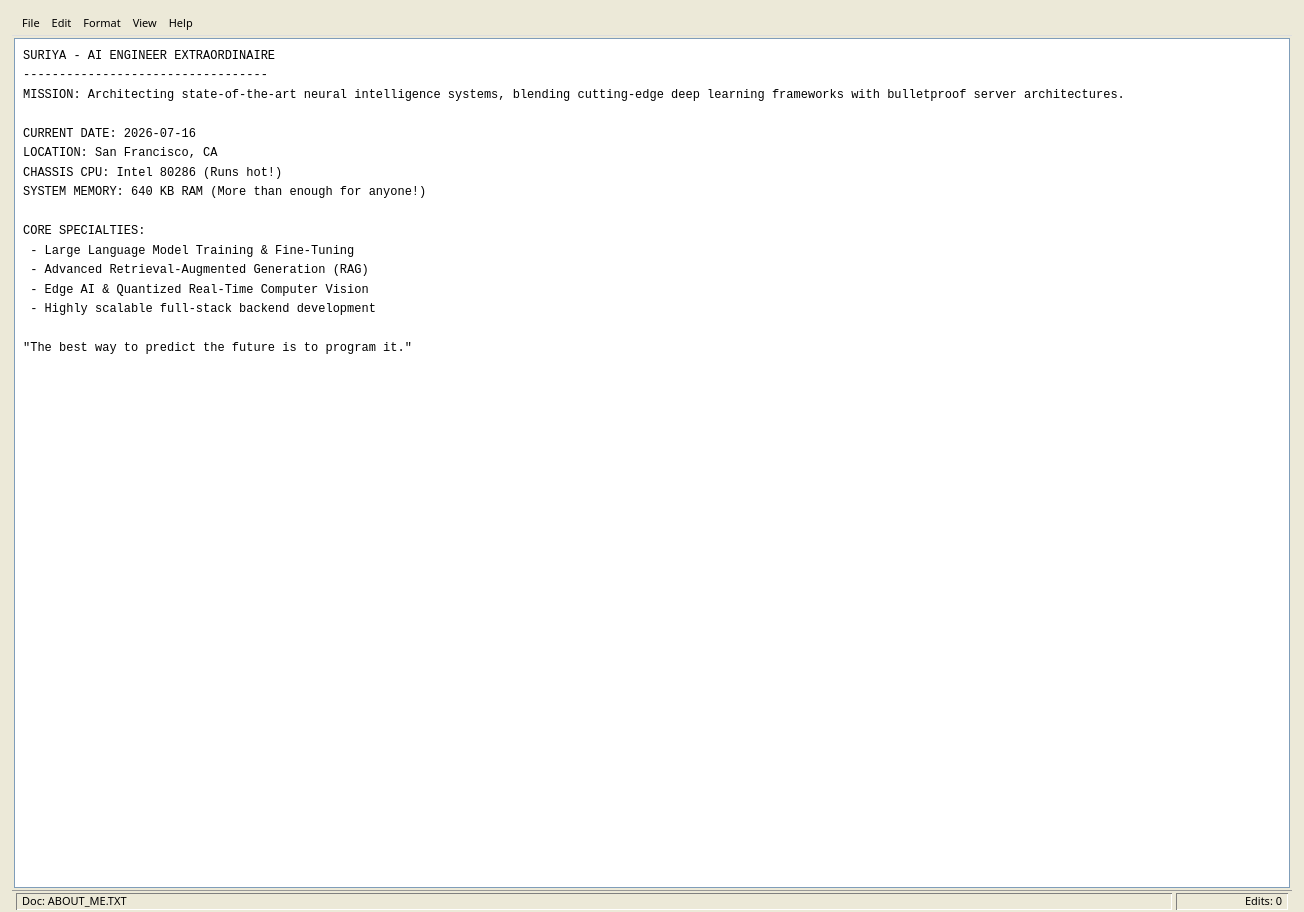
it: Notepad window › turns Word Wrap off and on from the Format menu
Click the menu item "Format" at (102, 23), box 77,14 -> 127,33
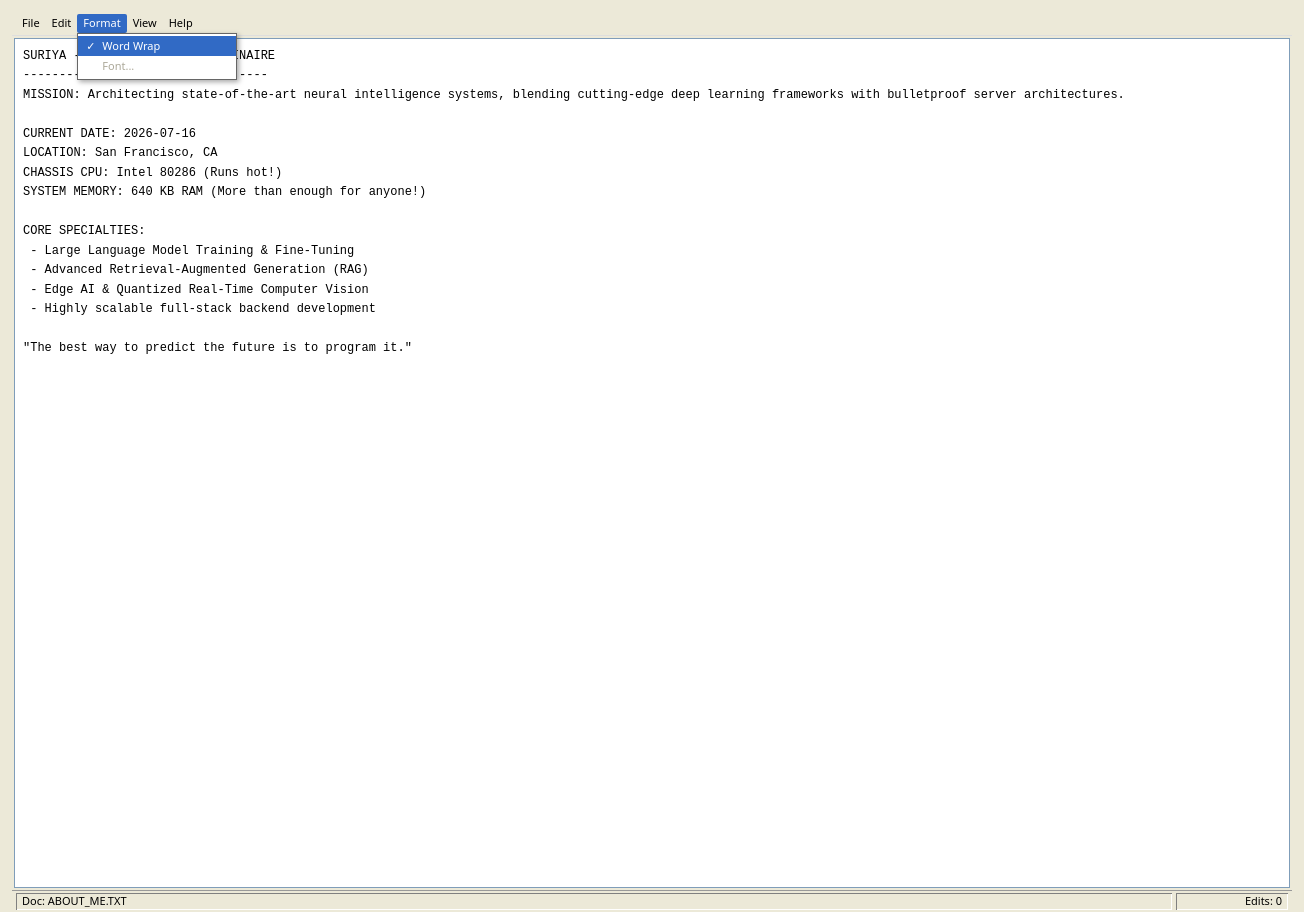
Result: the menu item "✓ Word Wrap" is checked
Click the menu item "✓ Word Wrap" at (157, 46), box 78,36 -> 236,56
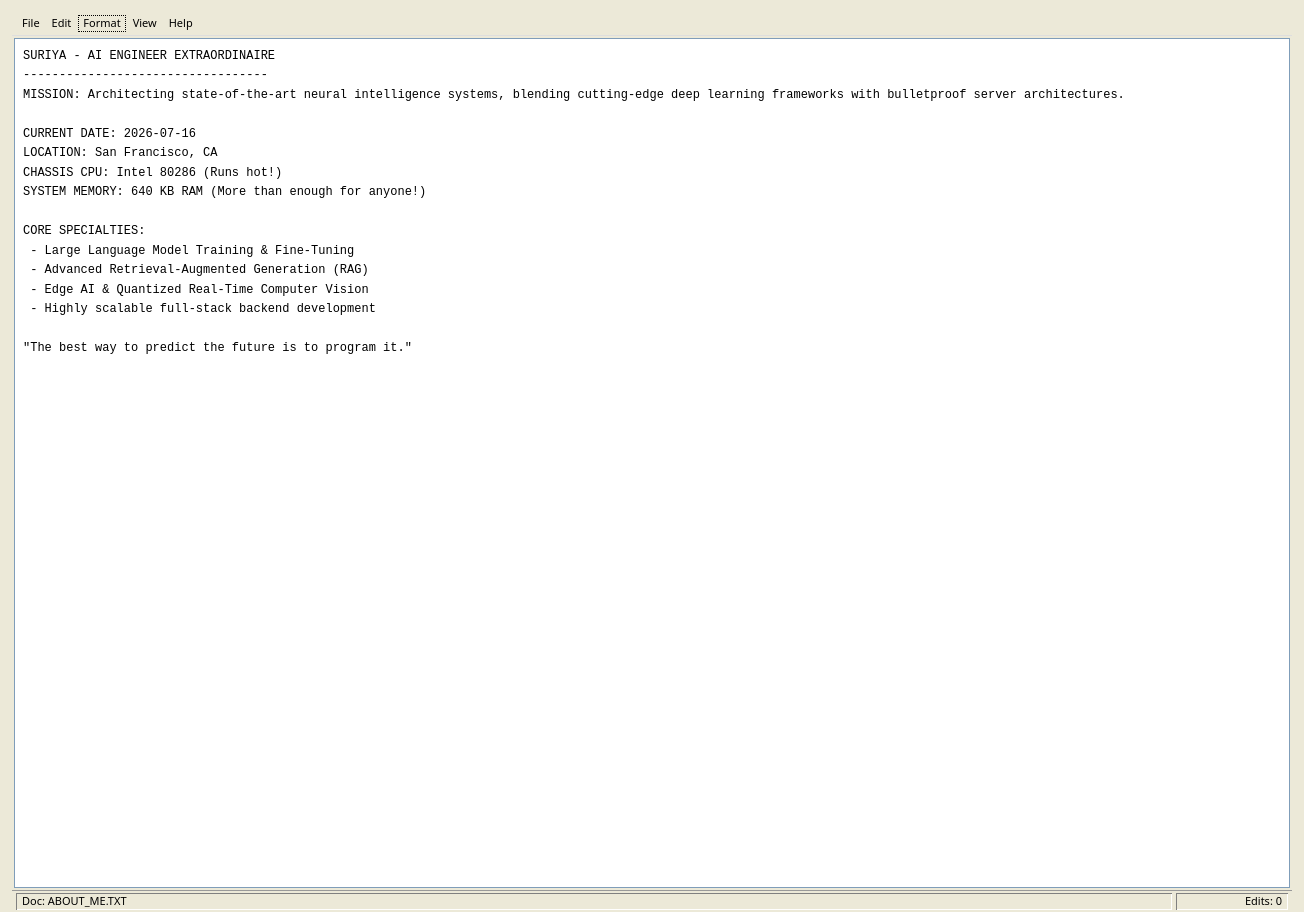
Result: the text box has attribute wrap="off"
